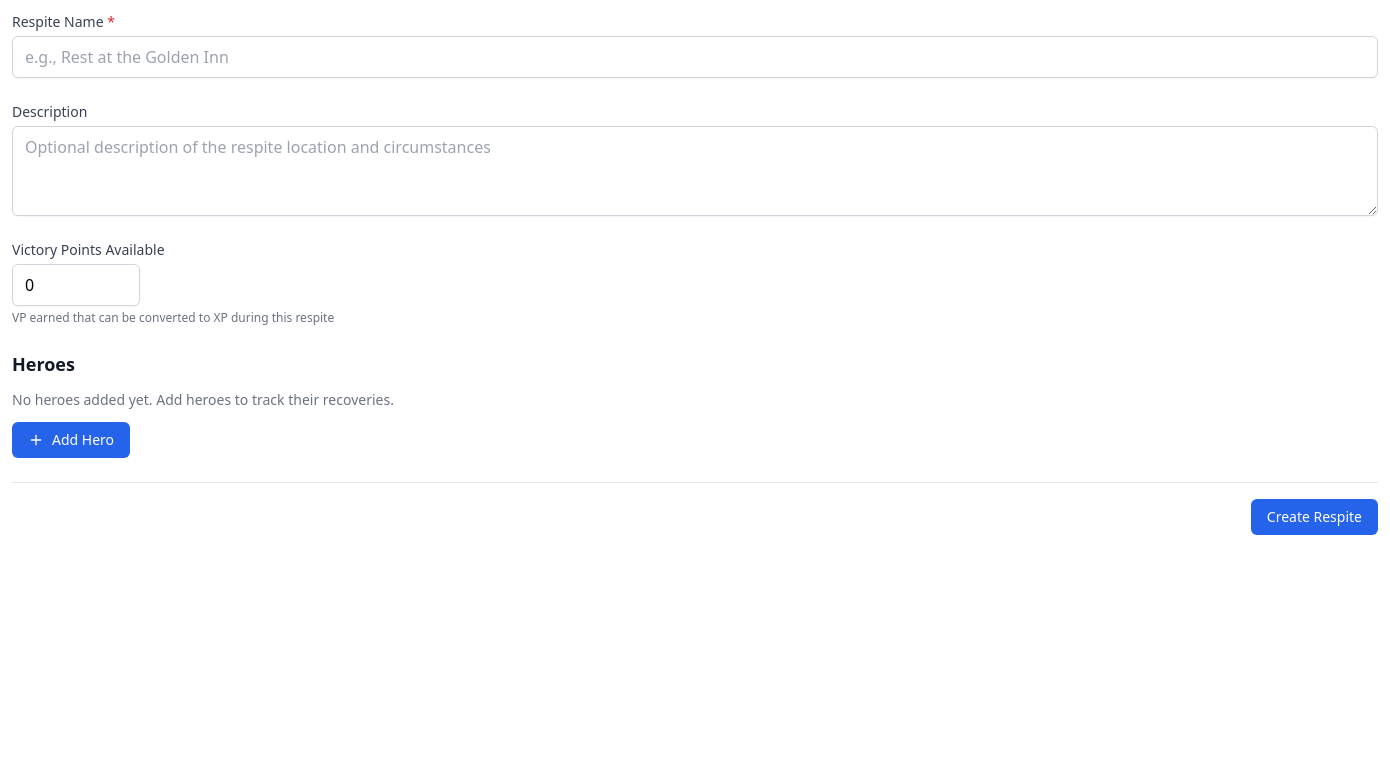
Test: RespiteSetup - Entity-Based Hero Selection (From Entity Mode) › should display character entities when in From Entity mode
Click the button "Add Hero" at [71, 440], box 12,422 -> 130,458
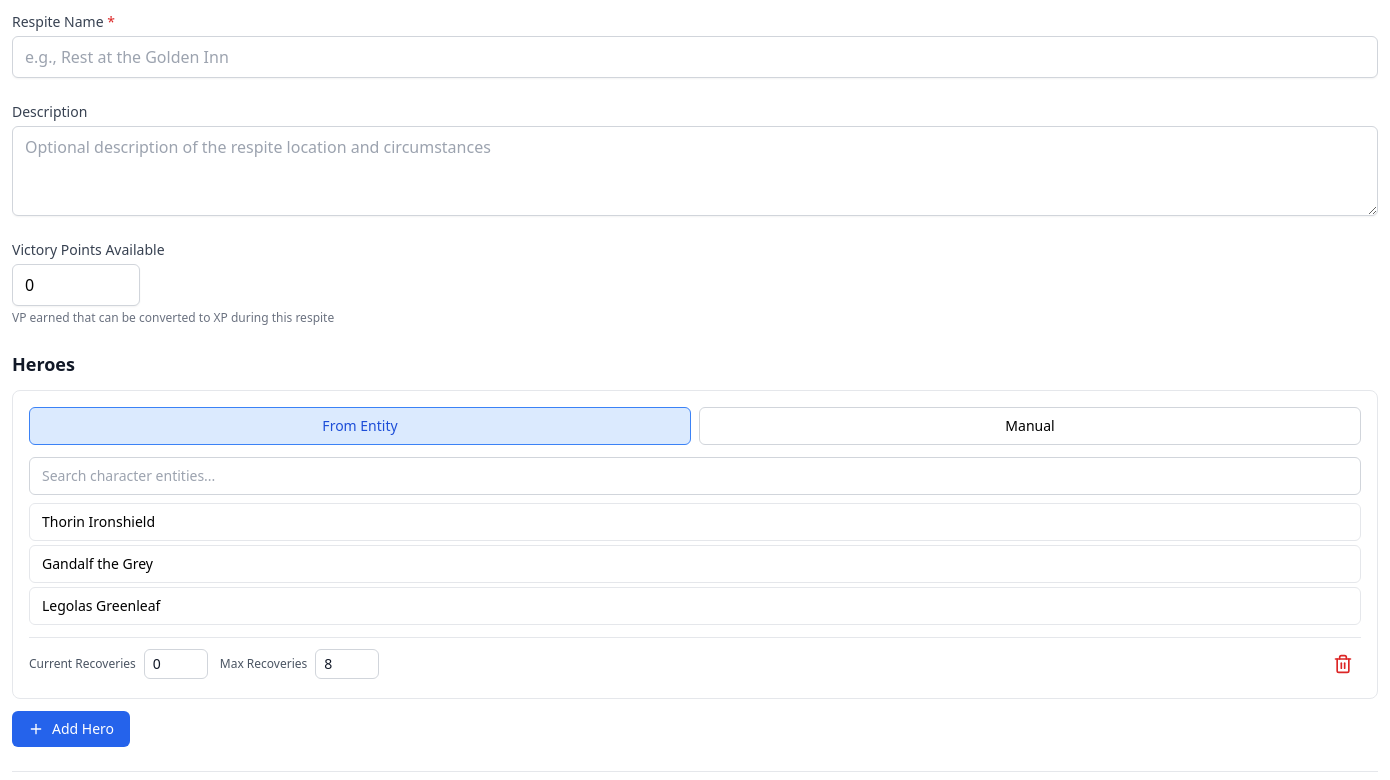
Expected: the button "Thorin Ironshield" is shown, 29,503 -> 1361,541
Expected: the button "Gandalf the Grey" is shown, 29,545 -> 1361,583
Expected: the button "Legolas Greenleaf" is shown, 29,587 -> 1361,625
